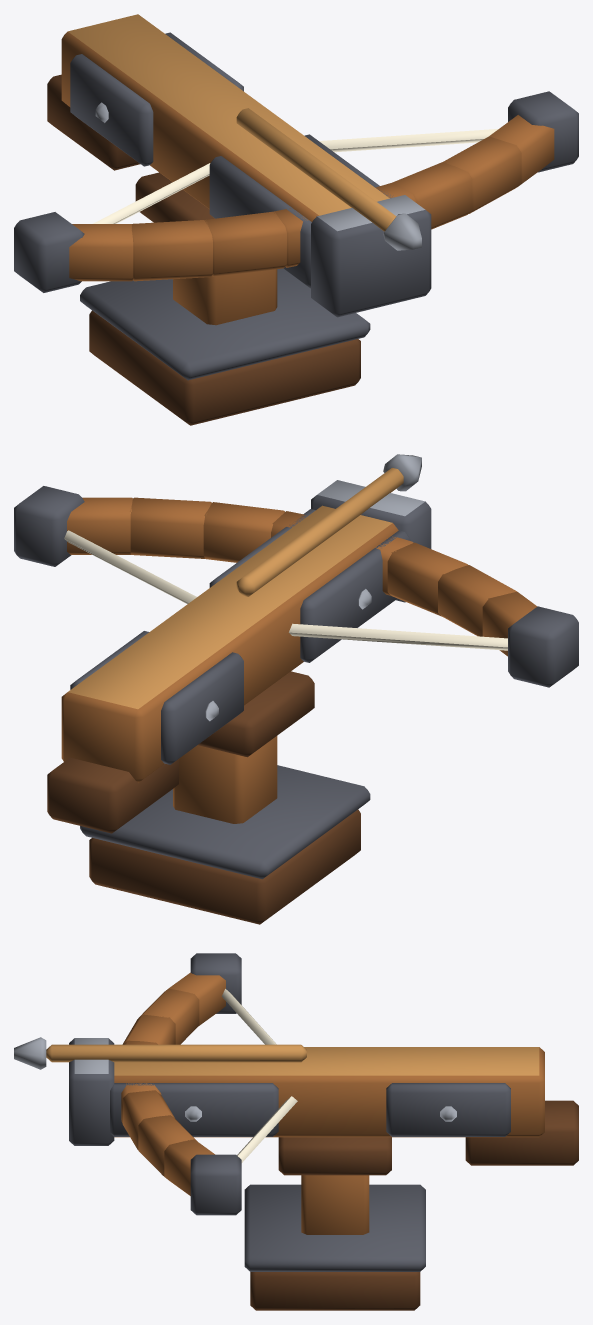
File: G_MedCrossbow_2.fbx
The picture shows the model from 3 angles, top to bottom: view 1: azimuth 30°, elevation 25°; view 2: azimuth 150°, elevation 25°; view 3: azimuth 270°, elevation 25°; orthographic projection. The views are drawn at different scales.
Visible parts, largest first — view 1: M_Crossbow_2; view 2: M_Crossbow_2; view 3: M_Crossbow_2.
Boxes of the visible parts, left/top/right/bottom form: M_Crossbow_2: left=14, top=14, right=578, bottom=425; M_Crossbow_2: left=14, top=454, right=578, bottom=924; M_Crossbow_2: left=14, top=953, right=578, bottom=1310.
Size of the model in its own units: 0.92 by 0.4634 by 0.9968.
1 material, 1 textured.
